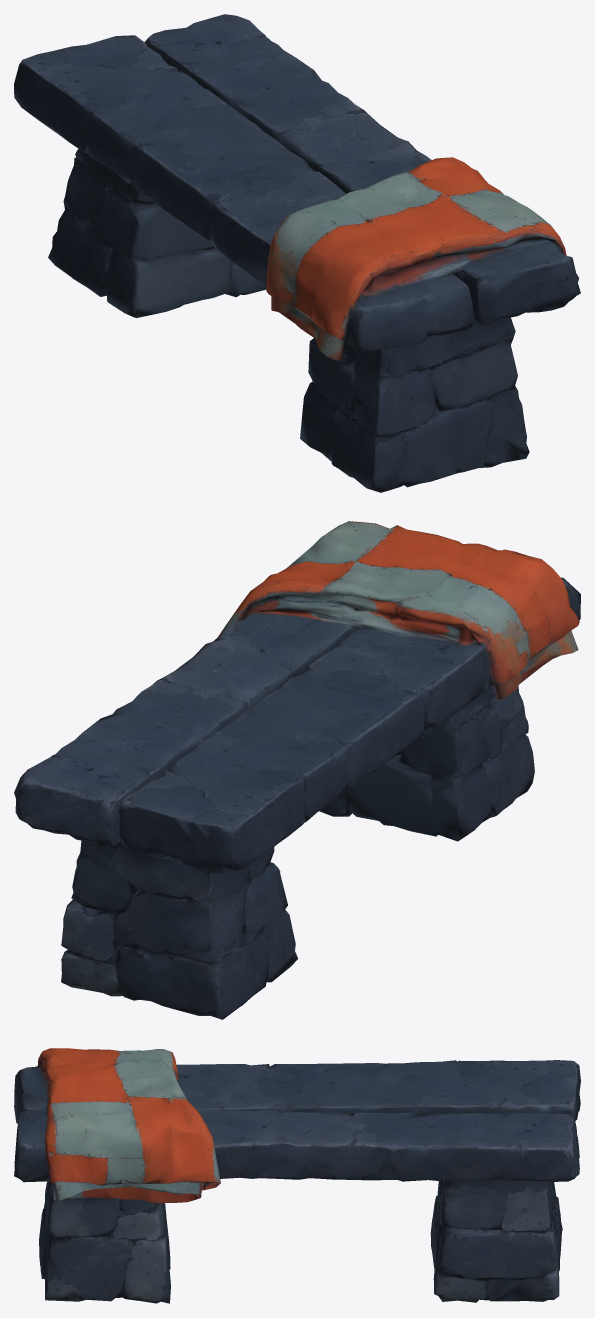
The model's file is bench.glb.
The picture shows the model from 3 angles, top to bottom: view 1: azimuth 30°, elevation 25°; view 2: azimuth 150°, elevation 25°; view 3: azimuth 270°, elevation 25°; orthographic projection. The views are drawn at different scales.
Visible parts, largest first — view 1: tripo_node_d1251db6-71e8-4129-997f-f6982bd4d18e; view 2: tripo_node_d1251db6-71e8-4129-997f-f6982bd4d18e; view 3: tripo_node_d1251db6-71e8-4129-997f-f6982bd4d18e.
Boxes of the visible parts, bbox=[...] form: tripo_node_d1251db6-71e8-4129-997f-f6982bd4d18e: bbox=[14, 14, 580, 492]; tripo_node_d1251db6-71e8-4129-997f-f6982bd4d18e: bbox=[14, 521, 580, 1019]; tripo_node_d1251db6-71e8-4129-997f-f6982bd4d18e: bbox=[14, 1048, 580, 1303].
Bounding box in the file's own units: 0.8998 × 0.8 × 2.11.
Materials: 1 (1 with a texture image).
